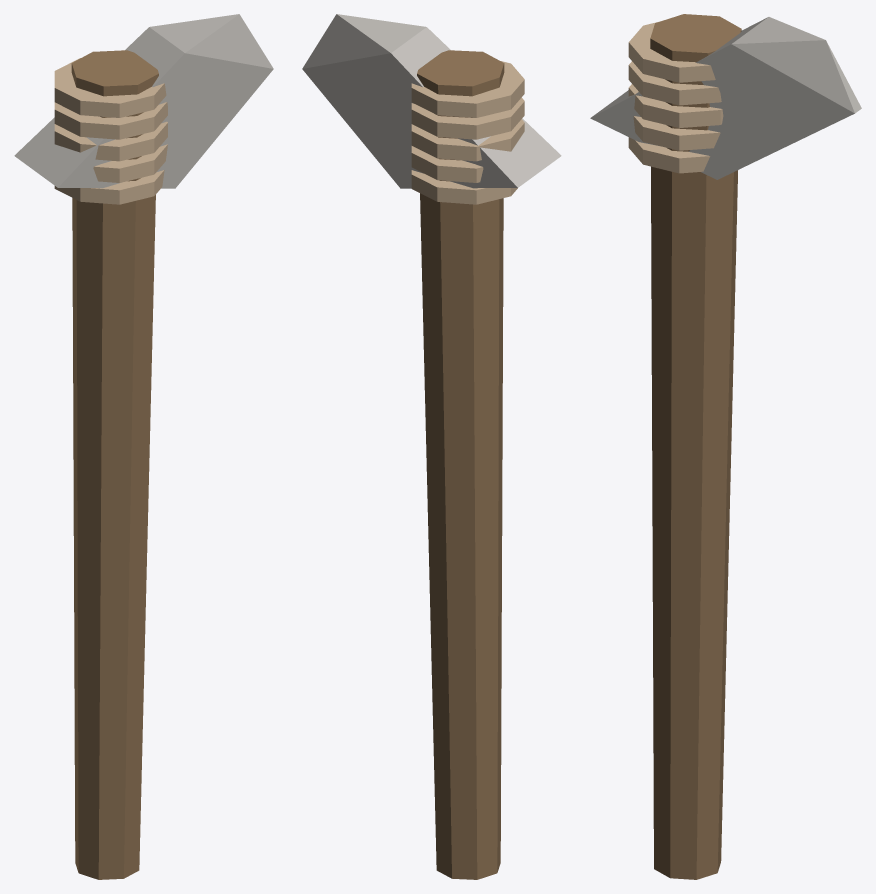
Rendered from grip_axe.glb.
The picture shows the model from 3 angles, left to right: view 1: azimuth 30°, elevation 25°; view 2: azimuth 150°, elevation 25°; view 3: azimuth 330°, elevation 25°; orthographic projection. The views are drawn at different scales.
Parts seen in each view (by area): view 1: s2_grip_axe; view 2: s2_grip_axe; view 3: s2_grip_axe.
Part boxes in pixels (x1=…): s2_grip_axe: x1=14, y1=14, x2=273, y2=879; s2_grip_axe: x1=302, y1=14, x2=561, y2=879; s2_grip_axe: x1=590, y1=14, x2=861, y2=879.
Bounding box in the file's own units: 0.204 × 0.6823 × 0.0853.
